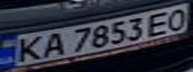3: (124, 15, 151, 43)
5: (106, 18, 130, 46)
7: (66, 25, 93, 54)
8: (90, 21, 112, 50)
A: (36, 29, 69, 60)
E: (142, 9, 178, 37)
K: (9, 34, 51, 64)
O: (160, 6, 193, 31)
